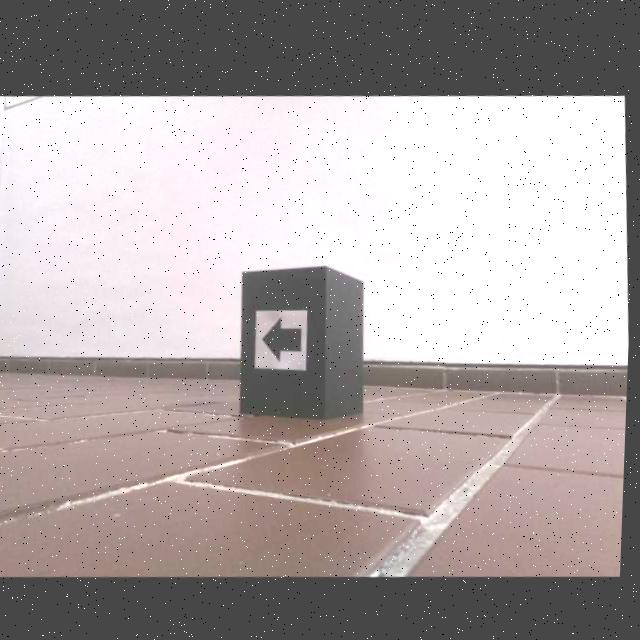LEFT: (264, 313, 304, 359)
